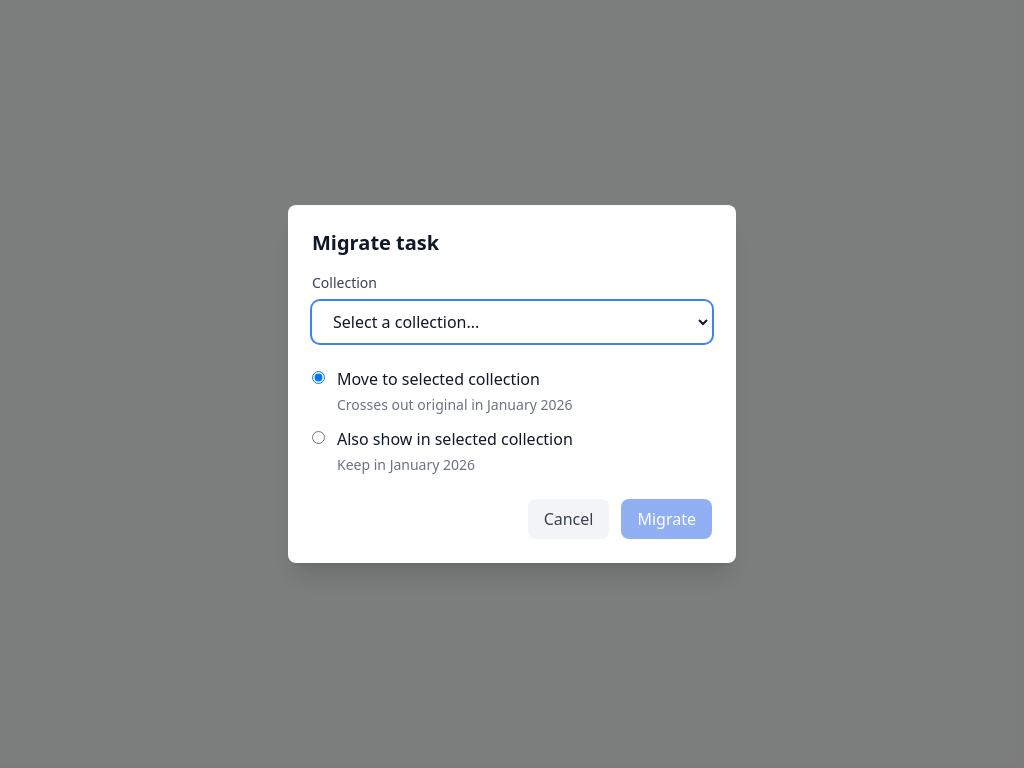
Test: MigrateEntryDialog - Error Handling › Form Validation › should enable Migrate button when collection is selected
Select "Saturday, January 24, 2026" in the dropdown labelled "Collection" at (512, 322), box top-left (312, 301), bottom-right (712, 343)
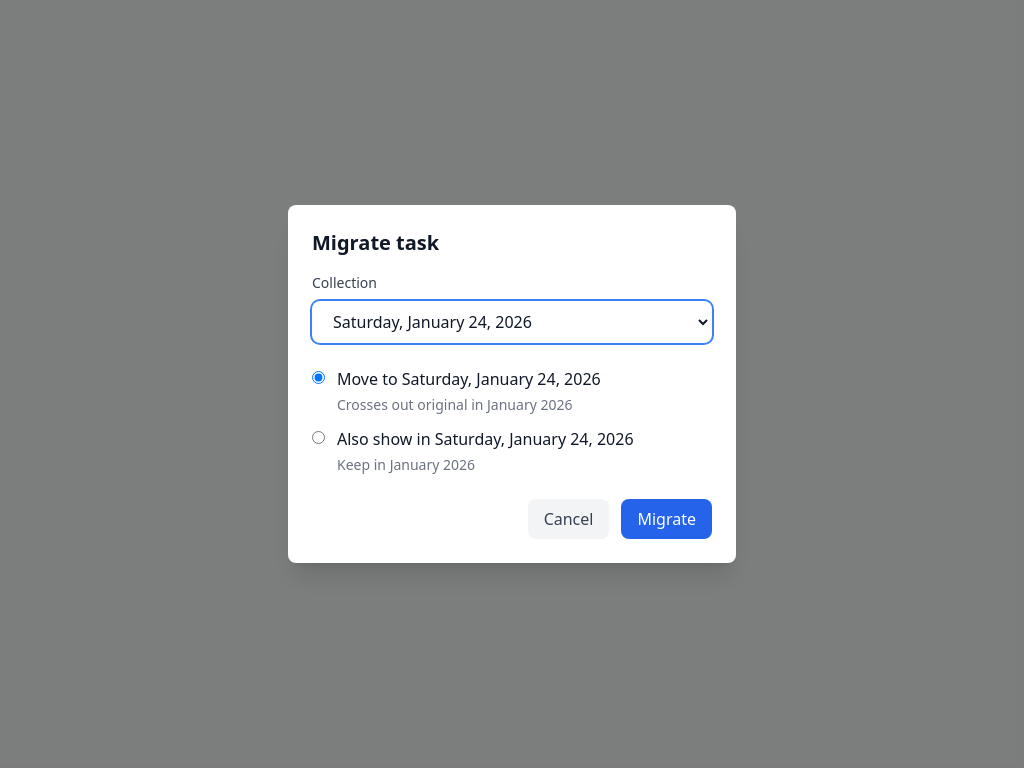
Expected: the button "Migrate" is enabled, top-left (622, 499), bottom-right (712, 539)
